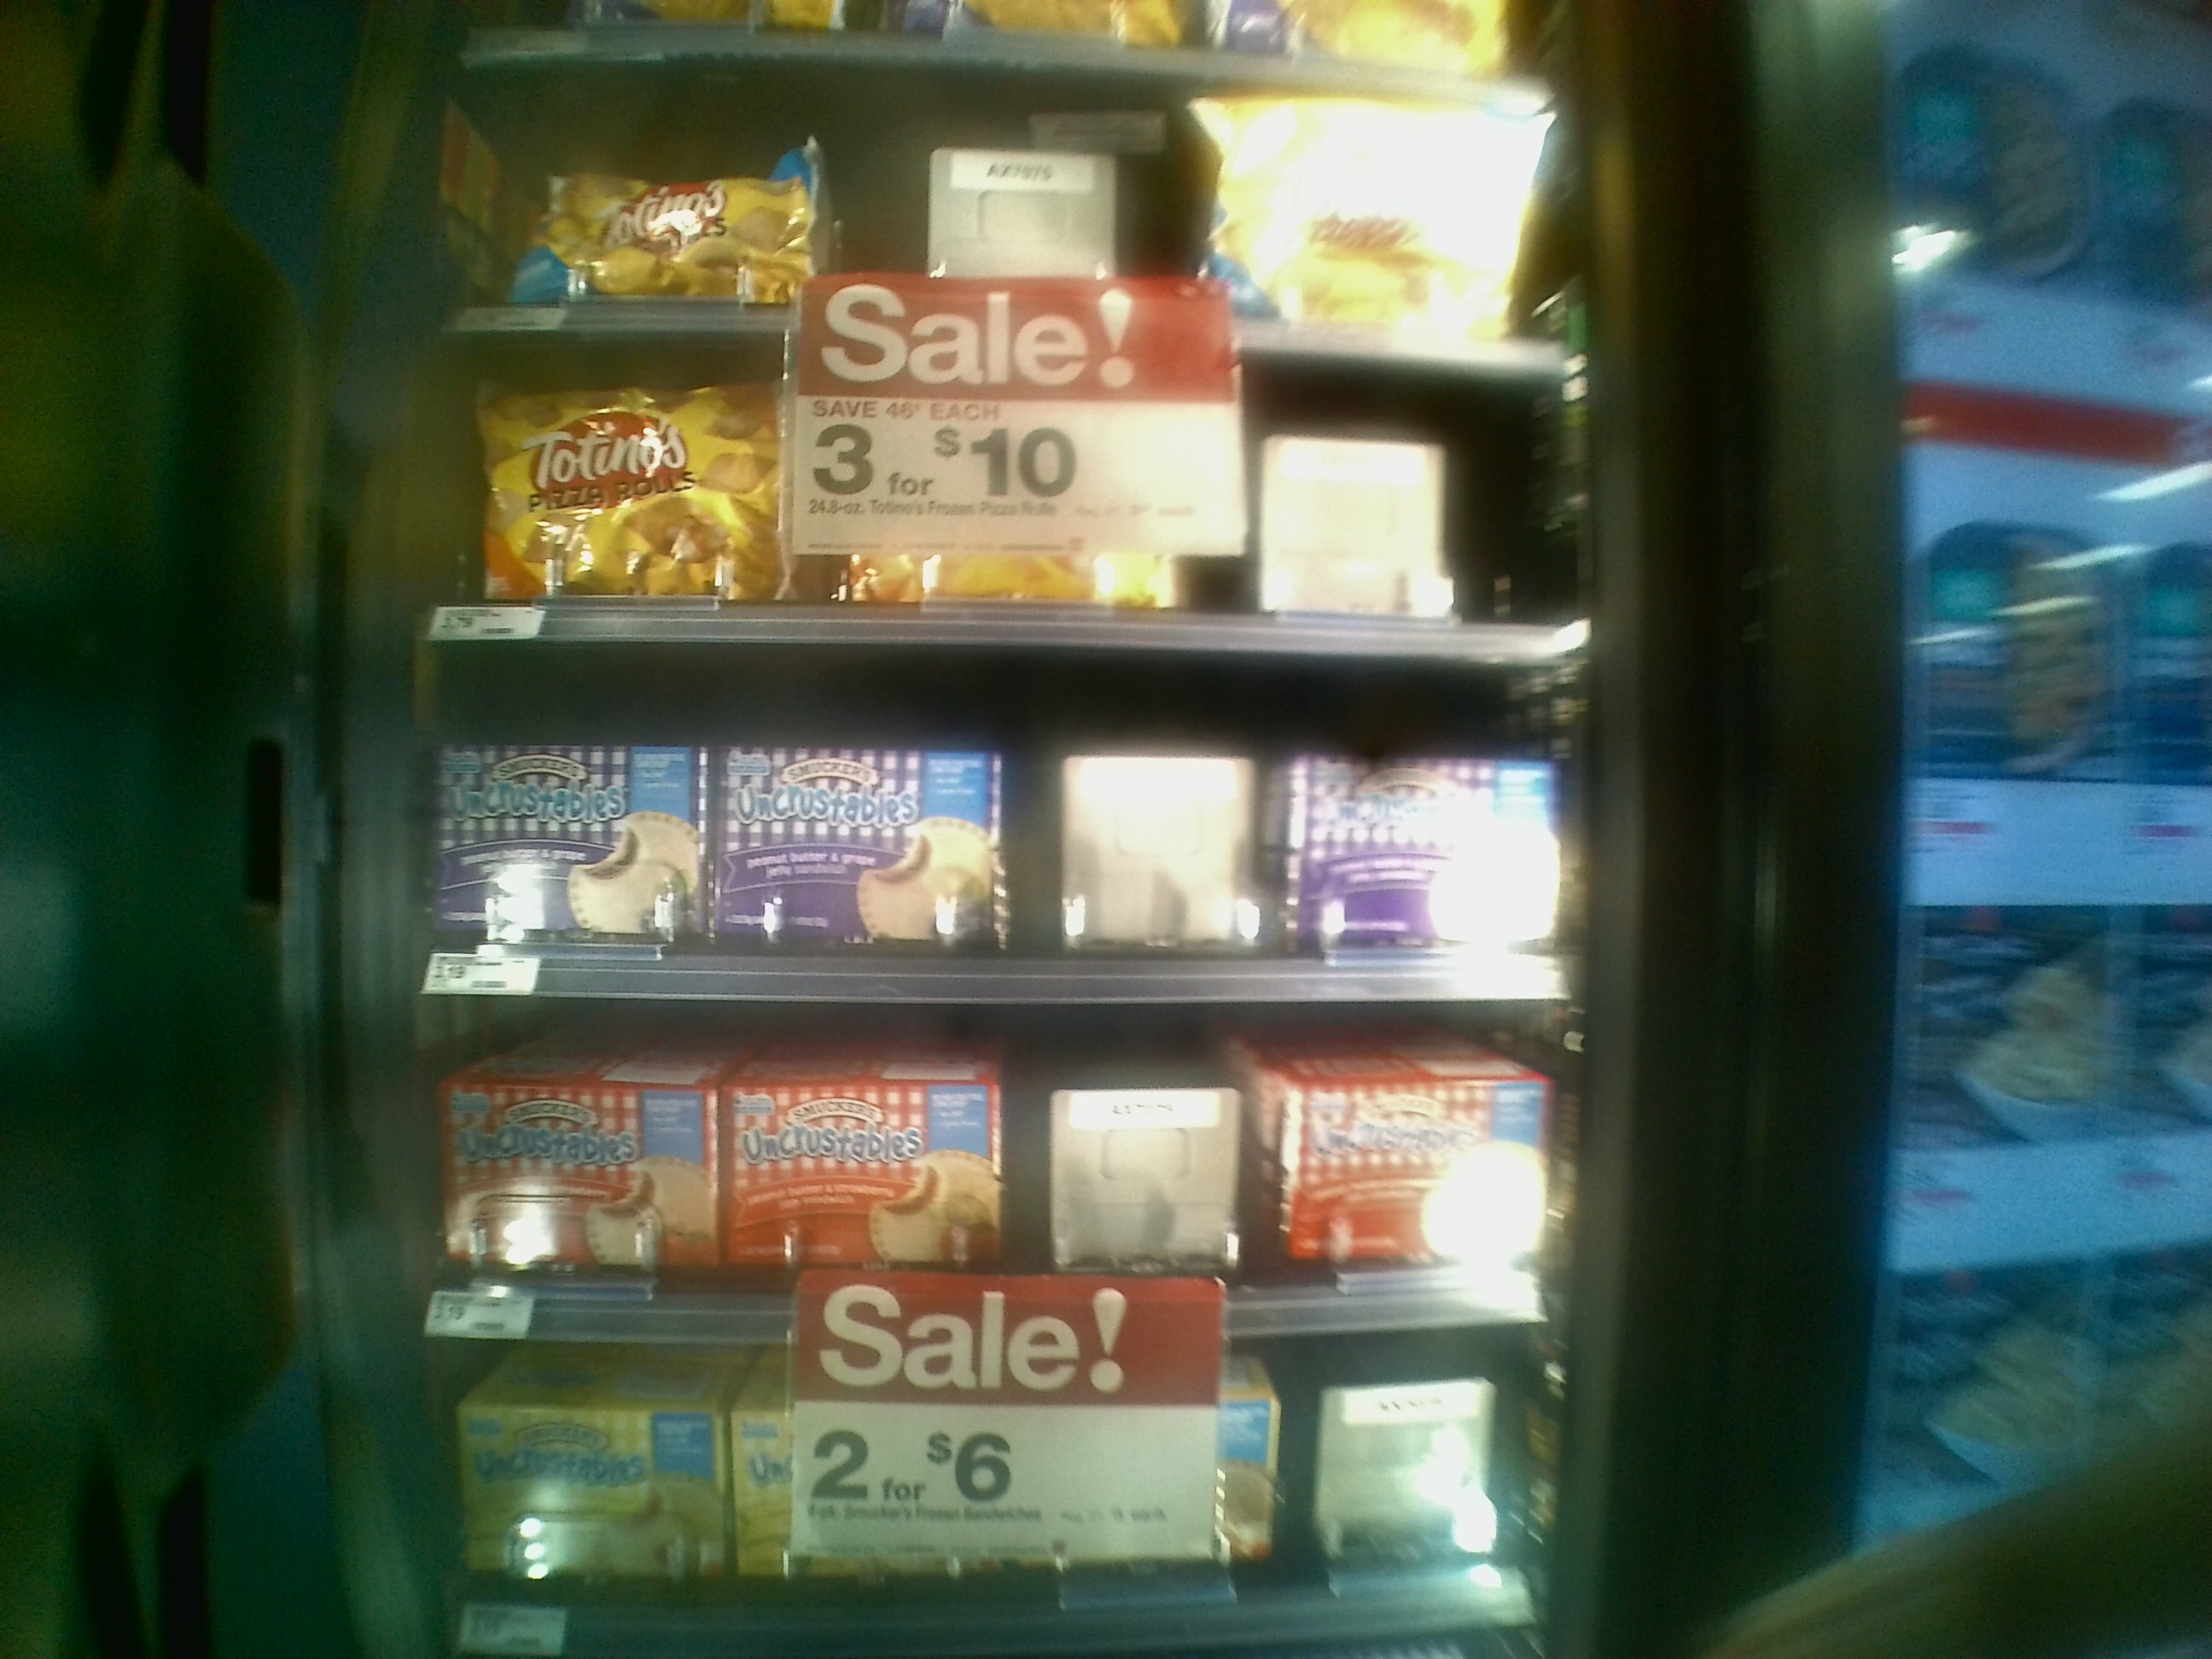shelf: (402, 650, 1581, 1016), (397, 1014, 1566, 1345), (409, 336, 1583, 660), (420, 54, 1592, 368), (413, 1351, 1564, 1656)
